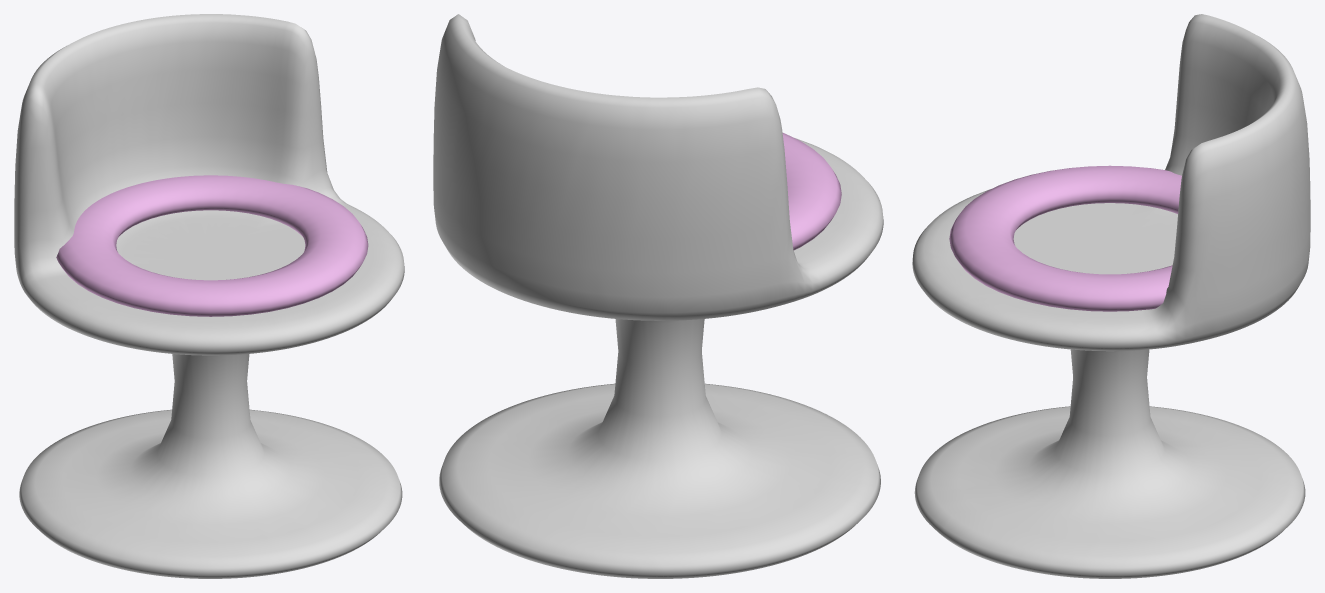
The model's file is eggchair_compressed.glb.
3 views of the same model, side by side, from view 1: azimuth 30°, elevation 25°; view 2: azimuth 150°, elevation 25°; view 3: azimuth 270°, elevation 25° (orthographic). The views are drawn at different scales.
Parts seen in each view (by area): view 1: Cylinder, Torus; view 2: Cylinder, Torus; view 3: Cylinder, Torus.
Part boxes in pixels (box(x1,y1,x2,y2)): Cylinder: box(14, 14, 404, 578); Torus: box(56, 175, 368, 316); Cylinder: box(433, 14, 883, 578); Torus: box(782, 133, 841, 250); Cylinder: box(912, 14, 1310, 578); Torus: box(949, 165, 1181, 311).
Bounding box in the file's own units: 1.96 × 2.36 × 1.97.
